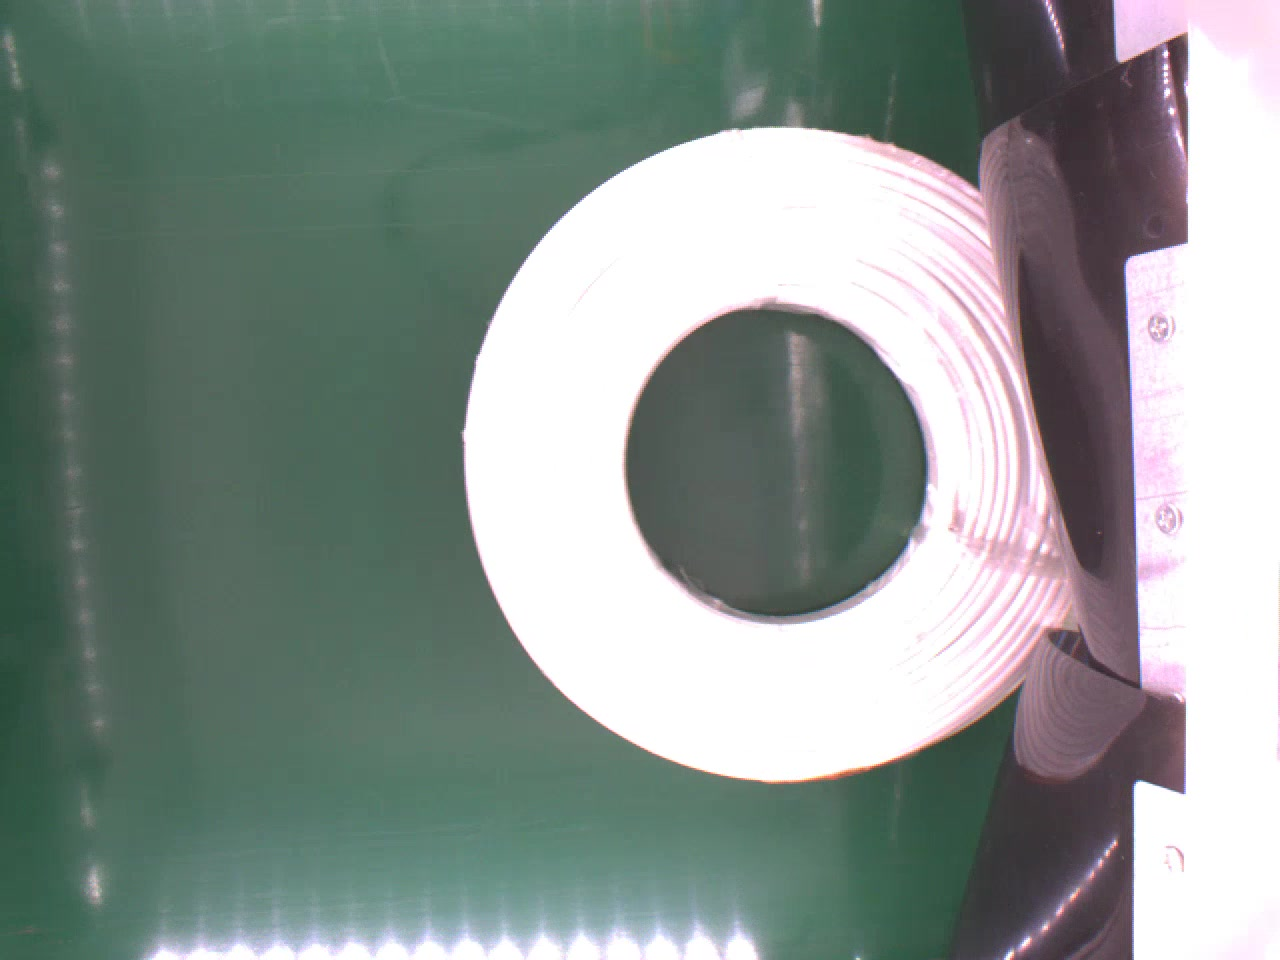white: (454, 123, 1080, 786)
